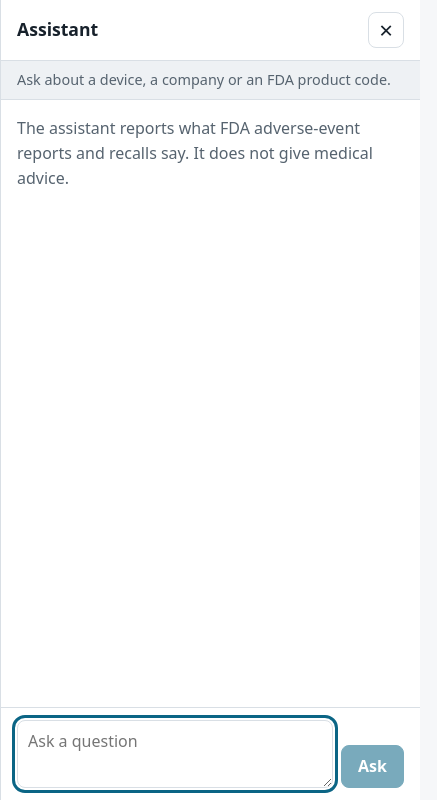
Scenario: chat behaviour (handover §3, §5) › shows 'Looking this up…' and blocks a second send until the answer arrives
Later steps or results of the test are not shown.
Type "first question" into the text box named "Your question" at [175, 754], box [17,720,333,788]
Then press Enter
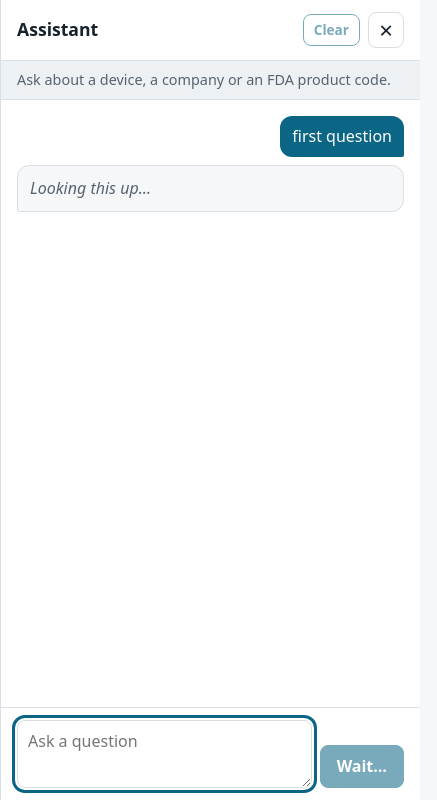
Check: the text "Looking this up…" is shown, box [17,165,404,212]
Type "second question" into the text box named "Your question" at [164, 754], box [17,720,312,788]
Then press Enter
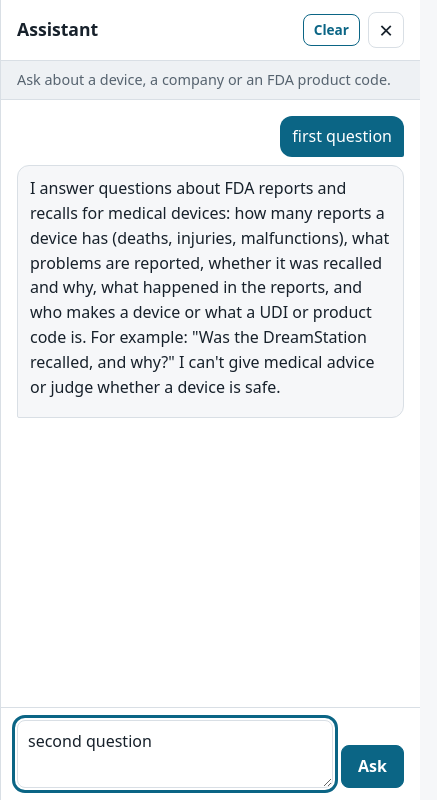
Check: the text "Looking this up…" is gone
